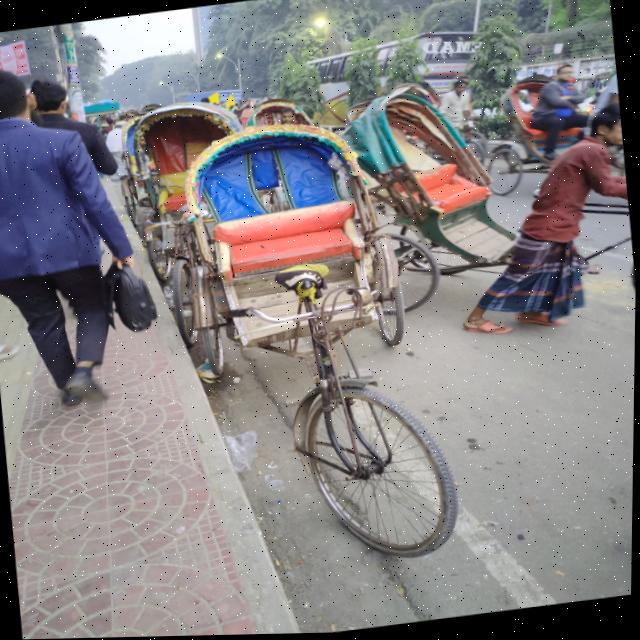rikshaw: (163, 112, 463, 623), (310, 65, 639, 372)
